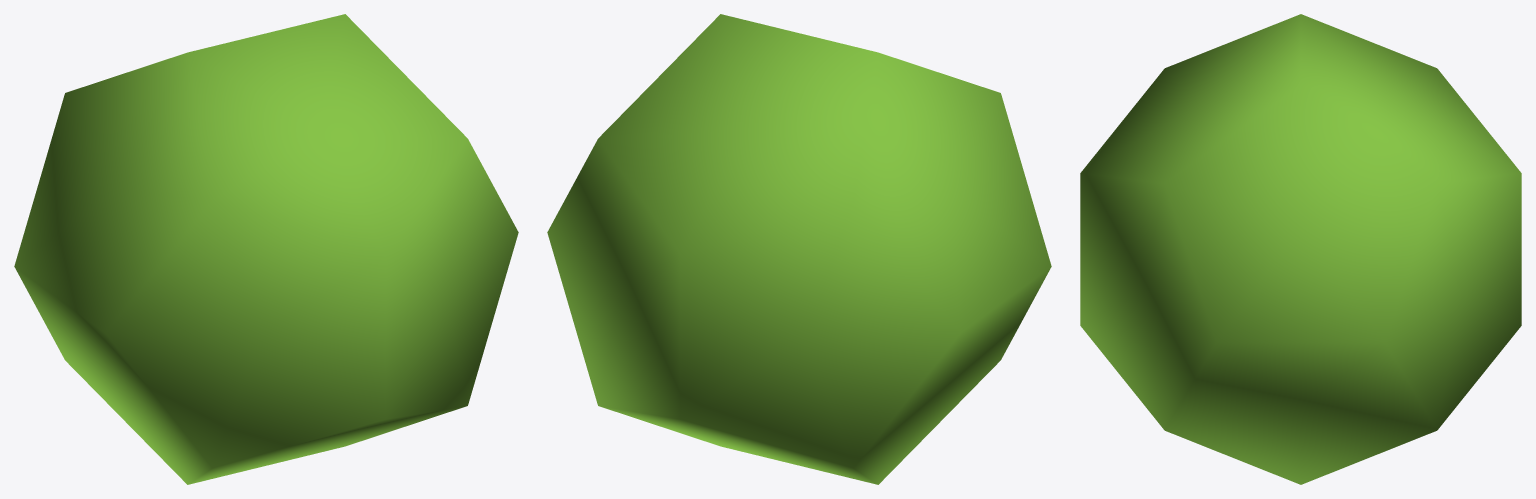
File: dodecahedronN2.obj
The picture shows the model from 3 angles, left to right: view 1: azimuth 30°, elevation 25°; view 2: azimuth 150°, elevation 25°; view 3: azimuth 270°, elevation 25°; orthographic projection. The views are drawn at different scales.
Size of the model in its own units: 8.47 by 8.47 by 8.47.
